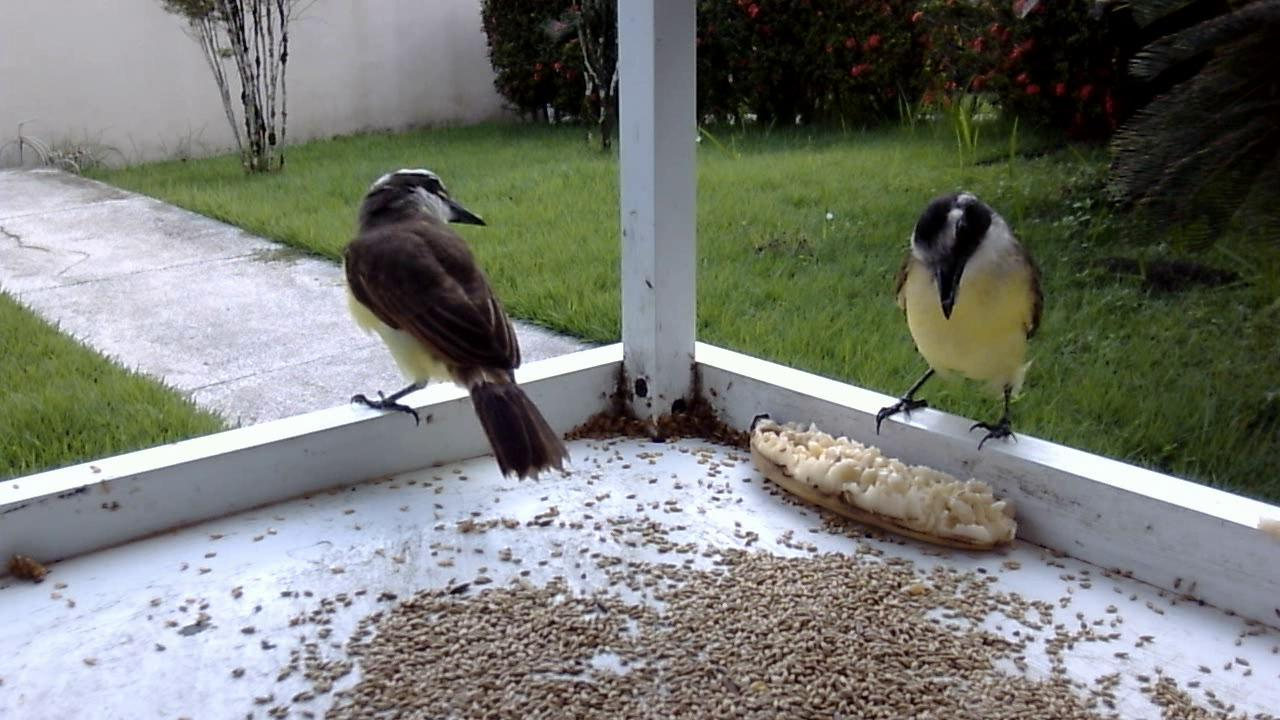bem_te_vi: (327, 157, 572, 487), (868, 182, 1047, 455)
